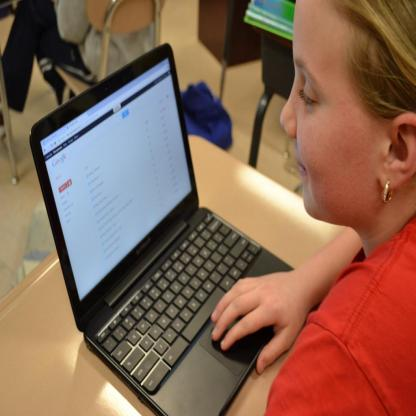board: (29, 43, 294, 416)
